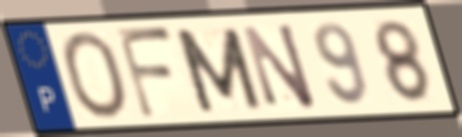8: (369, 18, 435, 104)
9: (311, 20, 371, 107)
F: (113, 25, 180, 122)
M: (170, 25, 267, 115)
N: (238, 20, 321, 111)
O: (58, 29, 133, 122)
